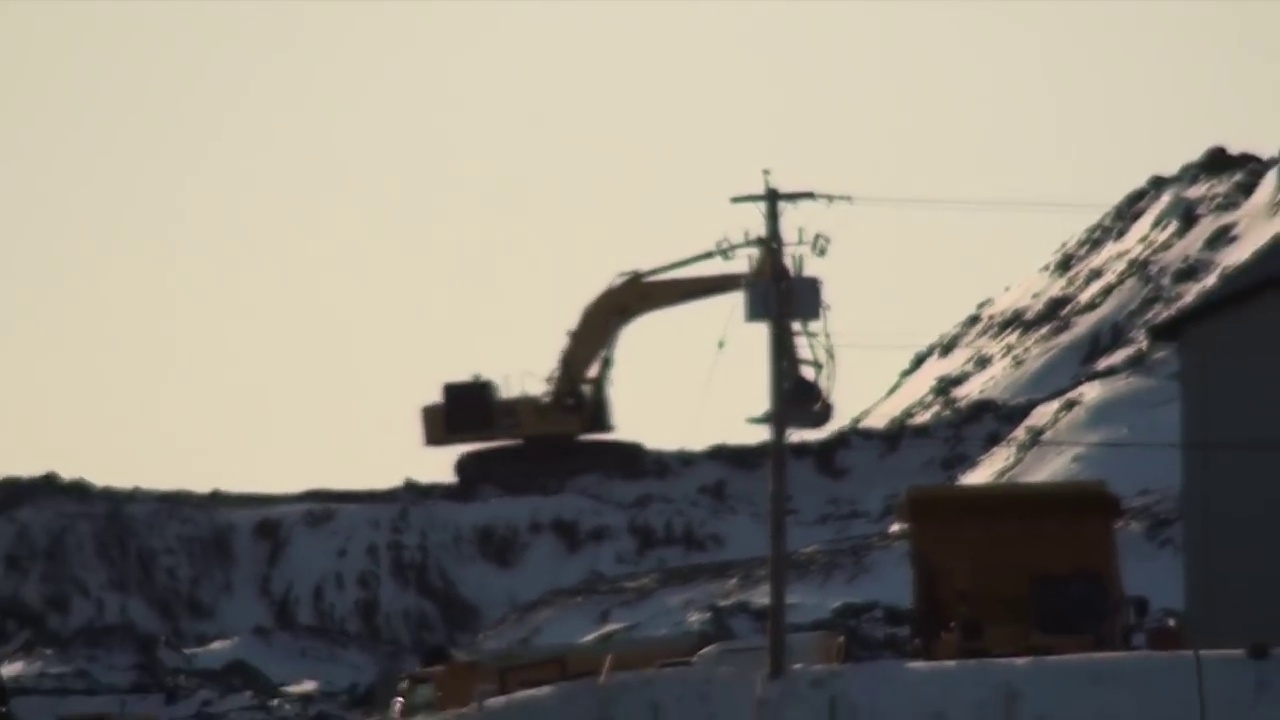excavator: (418, 263, 835, 483)
